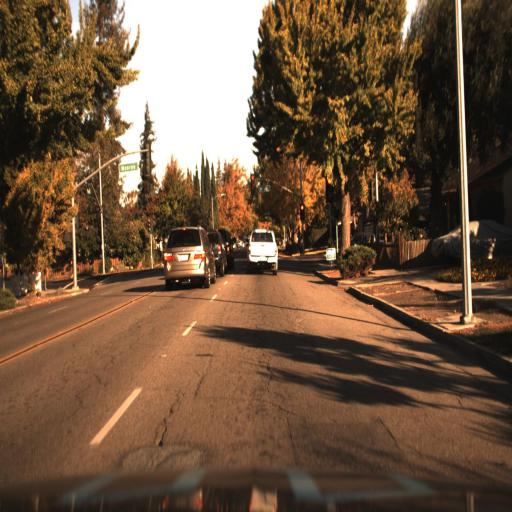car: (162, 221, 214, 284), (248, 224, 278, 279)
